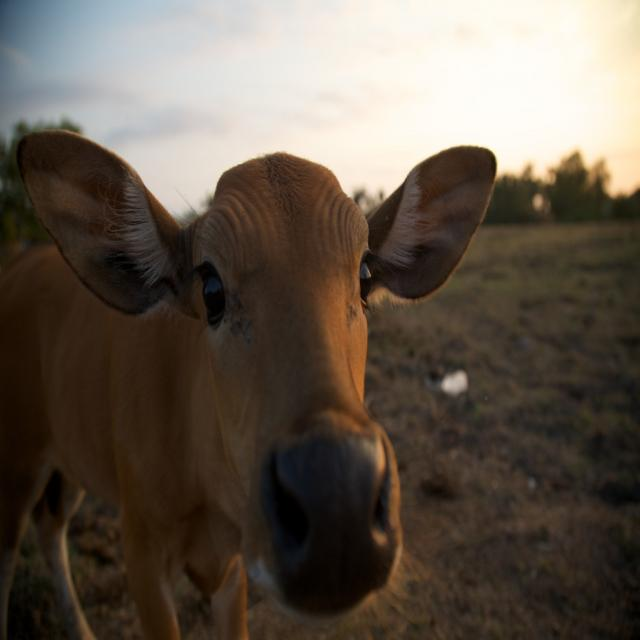Cattle: (0, 122, 521, 640)
